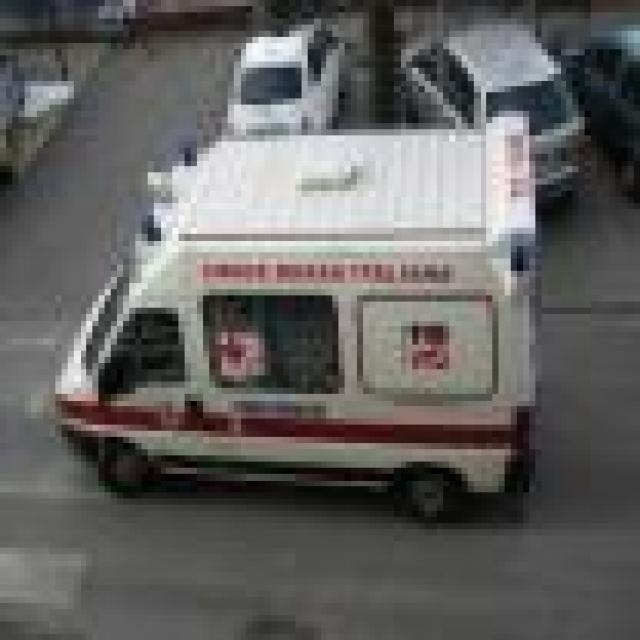emergency-vehicle: (37, 117, 585, 566), (400, 25, 603, 204), (216, 12, 370, 136), (0, 40, 25, 182)
